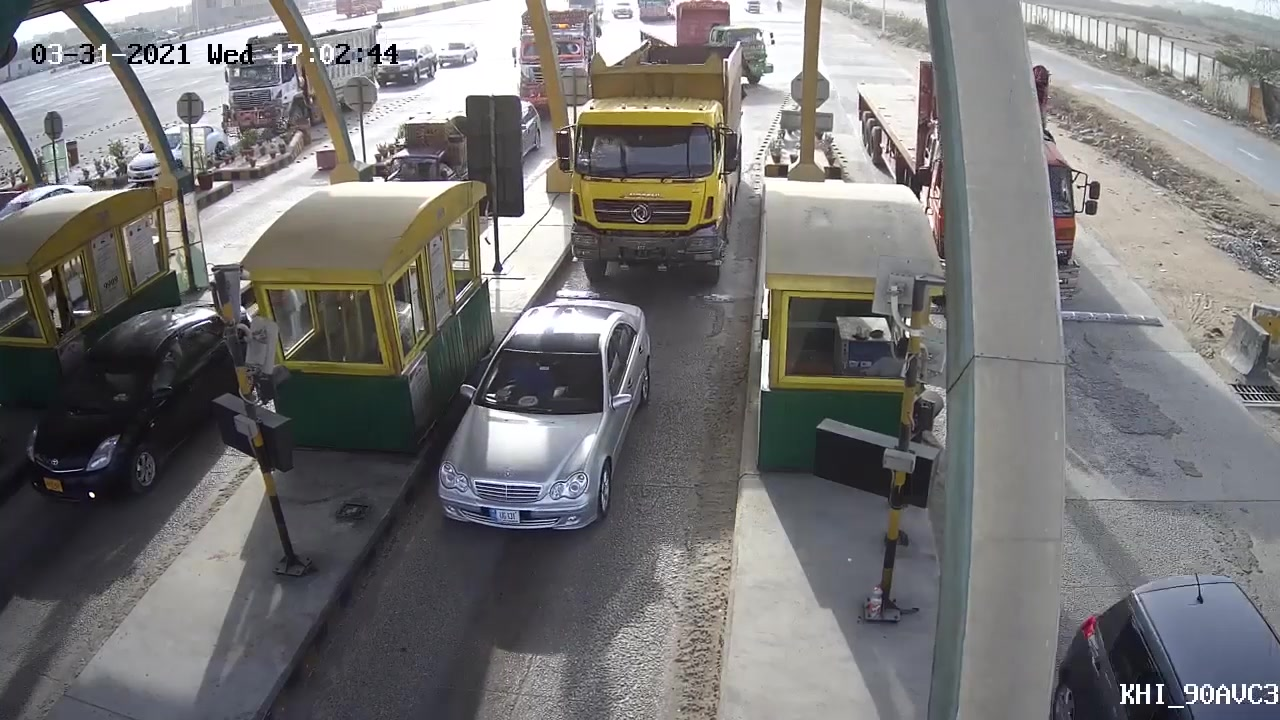F1: (434, 294, 661, 547)
F5: (561, 36, 752, 281)
